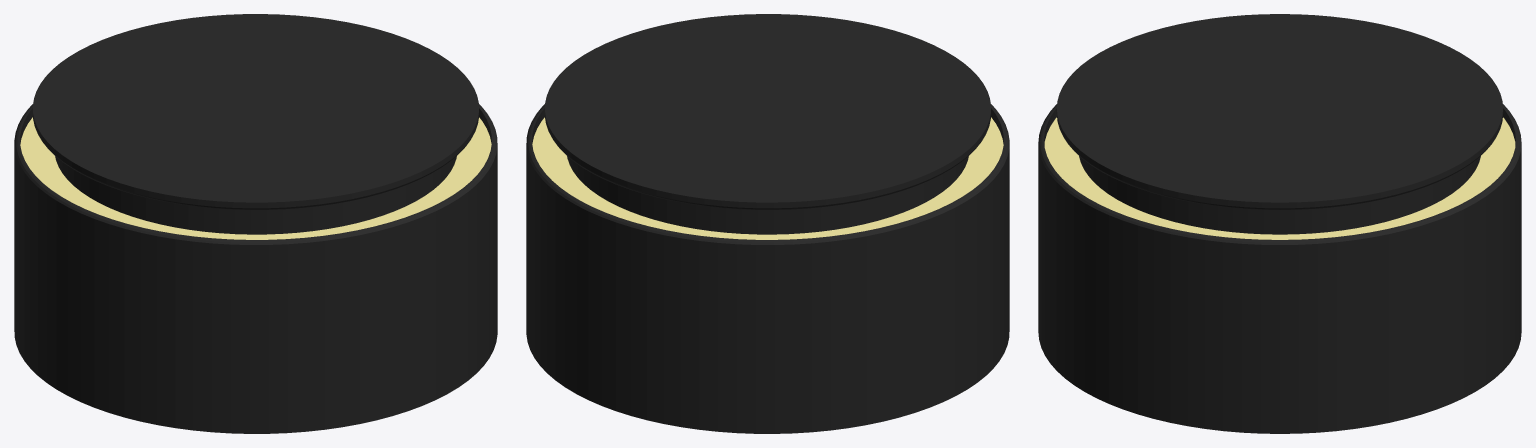
Rendered from 29236-GOVIK DSO-B.fbx.
3 views of the same model, side by side, from view 1: azimuth 30°, elevation 25°; view 2: azimuth 150°, elevation 25°; view 3: azimuth 270°, elevation 25° (orthographic).
Visible parts, largest first — view 1: Cylinder.254; view 2: Cylinder.254; view 3: Cylinder.254.
Boxes of the visible parts, x1,y1,x2,y2 form: Cylinder.254: (14,14,497,433); Cylinder.254: (526,14,1009,433); Cylinder.254: (1038,14,1521,433).
Bounding box in the file's own units: 80 × 40.83 × 80.
